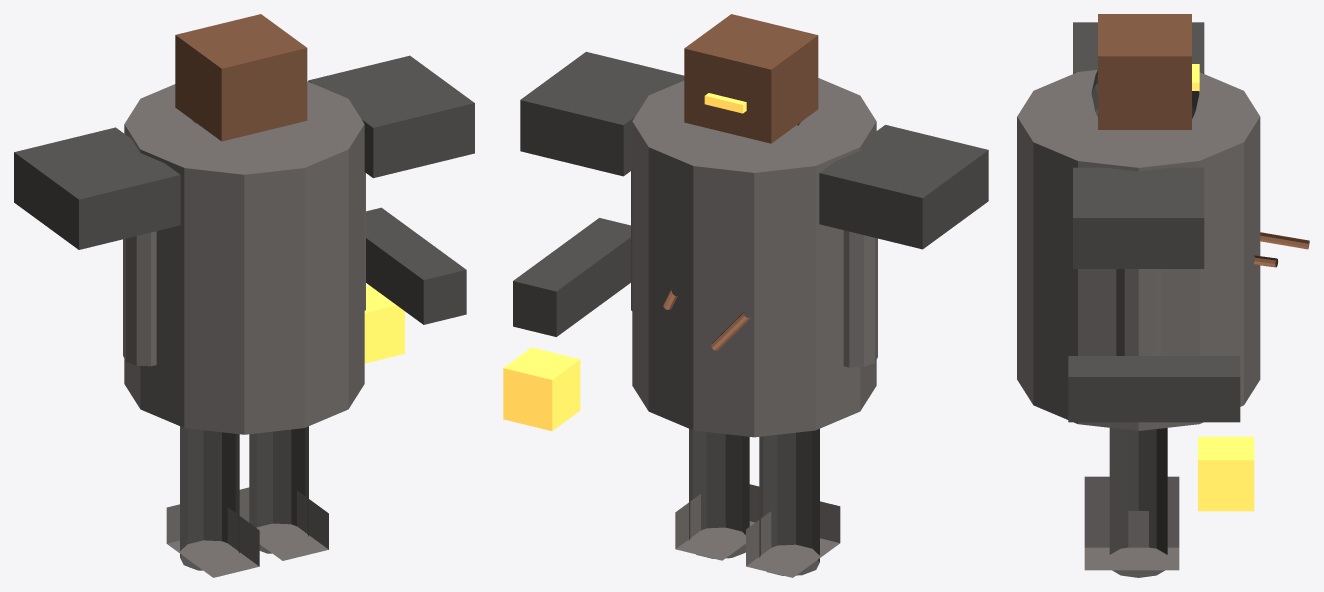
File: iron_penitent.glb
3 views of the same model, side by side, from view 1: azimuth 30°, elevation 25°; view 2: azimuth 150°, elevation 25°; view 3: azimuth 270°, elevation 25° (orthographic).
Parts seen in each view (by area): view 1: iron_penitent; view 2: iron_penitent; view 3: iron_penitent.
Part boxes in pixels (<box>): iron_penitent: <box>14,14,474,577</box>; iron_penitent: <box>503,14,988,577</box>; iron_penitent: <box>1017,14,1309,577</box>.
Size of the model in its own units: 1.48 by 1.81 by 0.9361.
